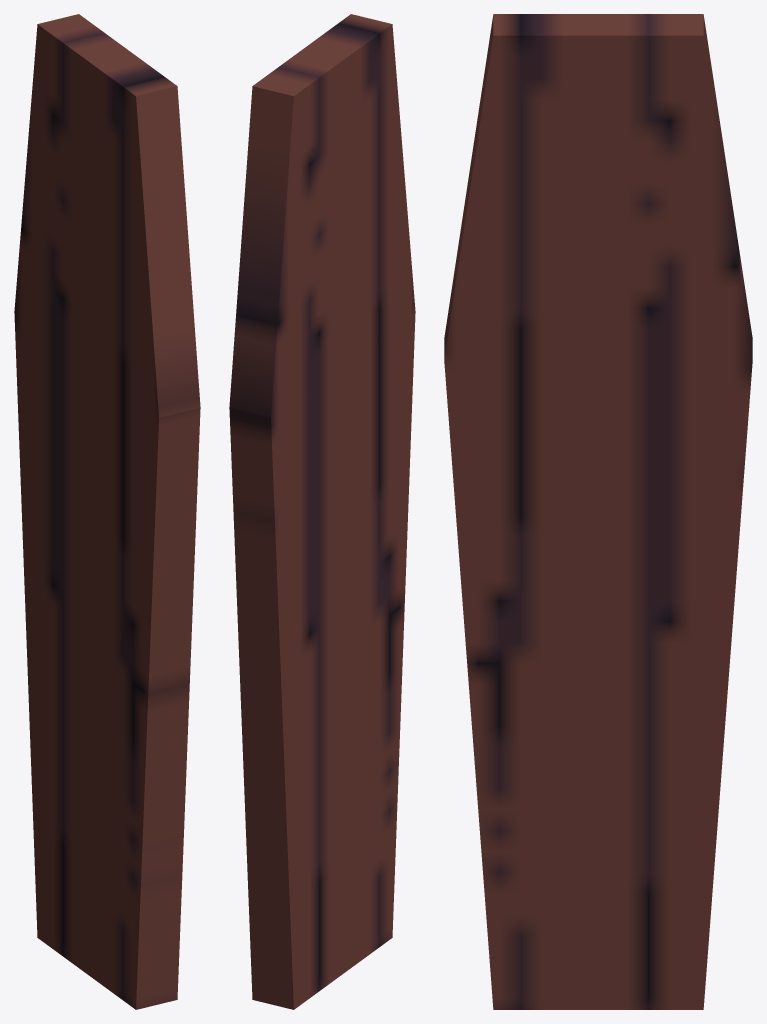
Rendered from CercaParte1.fbx.
3 renders of one model, left to right at view 1: azimuth 30°, elevation 25°; view 2: azimuth 150°, elevation 25°; view 3: azimuth 270°, elevation 25°, orthographic. The views are drawn at different scales.
Visible parts, largest first — view 1: CercaParte1; view 2: CercaParte1; view 3: CercaParte1.
Boxes of the visible parts, box(x1,y1,x2,y2) form: CercaParte1: box(14, 14, 200, 1009); CercaParte1: box(229, 14, 415, 1009); CercaParte1: box(444, 14, 752, 1009).
Size of the model in its own units: 6 by 36.26 by 126.
